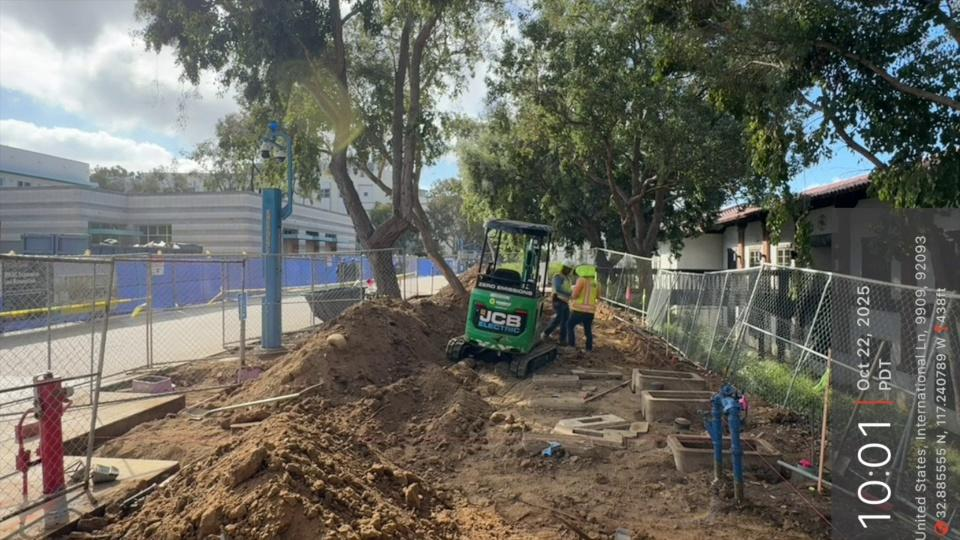Exacavator: (443, 217, 559, 379)
